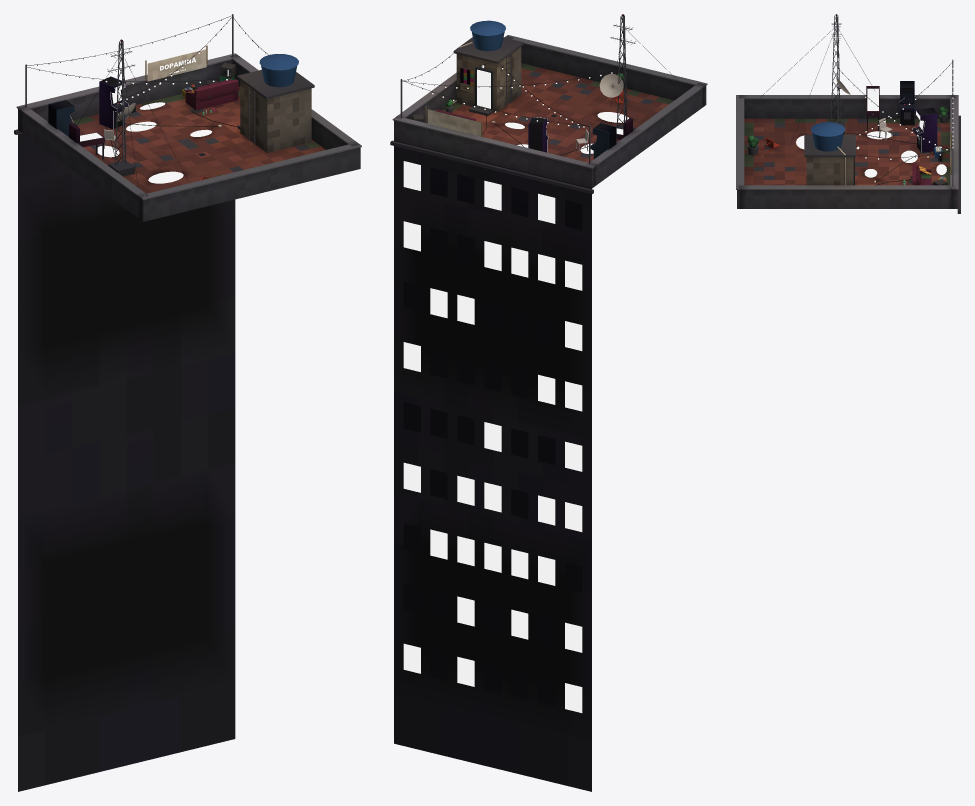
The model's file is topo.glb.
3 renders of one model, left to right at view 1: azimuth 30°, elevation 25°; view 2: azimuth 150°, elevation 25°; view 3: azimuth 270°, elevation 25°, orthographic. The views are drawn at different scales.
Parts seen in each view (by area): view 1: sala_solido, sala_vidro, sala_luz; view 2: sala_solido, sala_luz; view 3: sala_solido, sala_vidro, sala_luz.
Boxes of the visible parts, <box> form: sala_solido: <box>14,14,361,791</box>; sala_vidro: <box>97,102,212,183</box>; sala_luz: <box>36,21,265,141</box>; sala_solido: <box>390,14,707,791</box>; sala_luz: <box>403,58,623,712</box>; sala_solido: <box>736,14,960,213</box>; sala_vidro: <box>796,131,946,177</box>; sala_luz: <box>841,68,953,159</box>.
Size of the model in its own units: 10.5 by 36 by 10.49.
